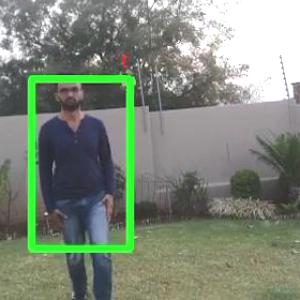follow: (45, 80, 114, 296)
